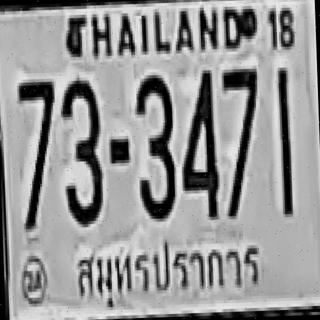N01: (276, 66, 293, 216)
N03: (60, 77, 102, 224), (134, 72, 176, 219)
N04: (178, 67, 218, 218)
N07: (220, 65, 260, 216), (17, 78, 57, 229), (222, 66, 260, 192), (222, 65, 259, 177)
P57: (68, 232, 262, 312)
